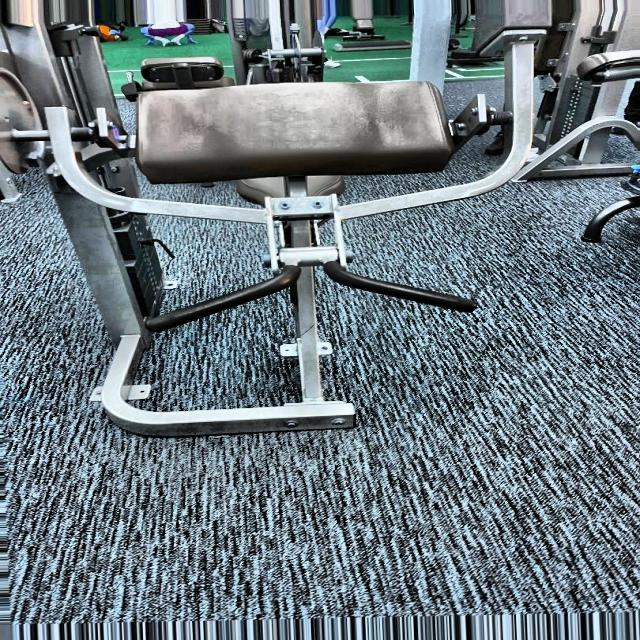bicep_curl_machine: (62, 0, 632, 399)
